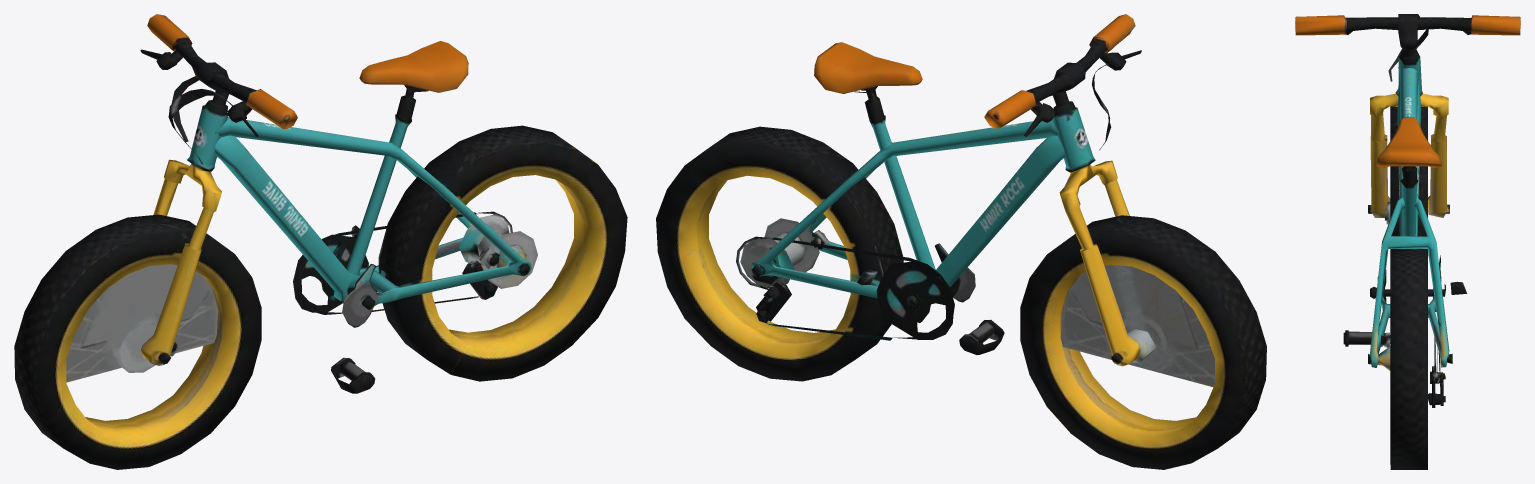
File: bike_shop.glb
3 renders of one model, left to right at view 1: azimuth 30°, elevation 25°; view 2: azimuth 150°, elevation 25°; view 3: azimuth 270°, elevation 25°, orthographic. The views are drawn at different scales.
Size of the model in its own units: 0.9473 by 0.5781 by 0.3628.
Materials: 1 (1 with a texture image).
